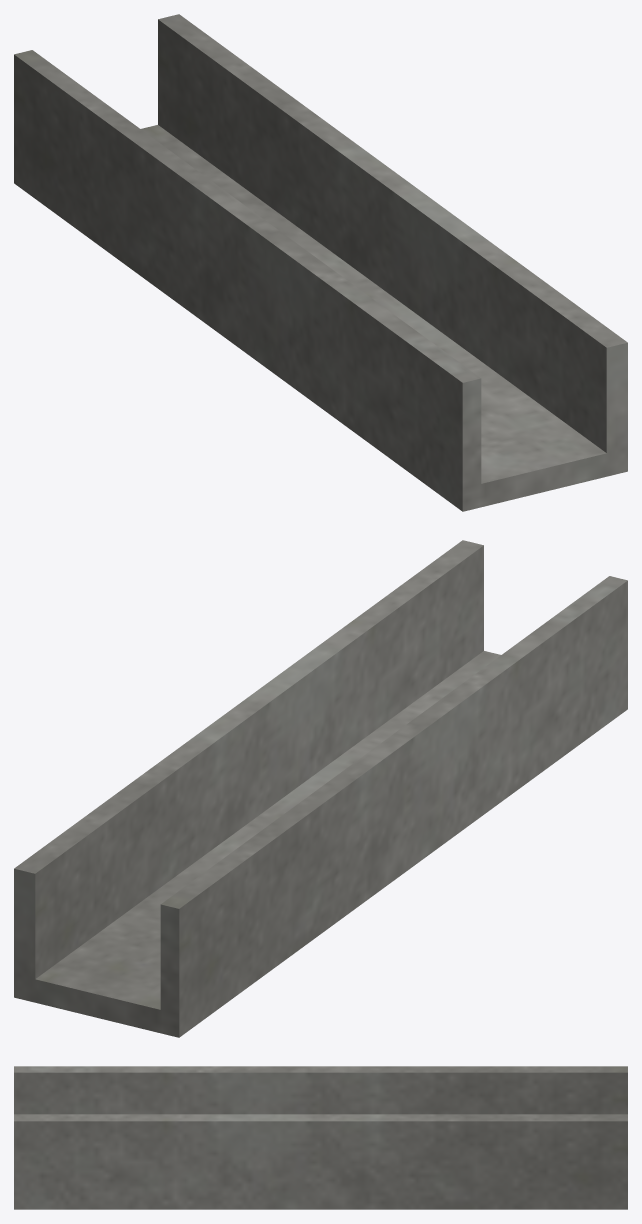
File: WalkingBridge2.fbx
3 views of the same model, one above another, from view 1: azimuth 30°, elevation 25°; view 2: azimuth 150°, elevation 25°; view 3: azimuth 270°, elevation 25° (orthographic). The views are drawn at different scales.
Visible parts, largest first — view 1: WalkingBridge2; view 2: WalkingBridge2; view 3: WalkingBridge2.
Boxes of the visible parts, x1,y1,x2,y2 form: WalkingBridge2: (14, 14, 627, 511); WalkingBridge2: (14, 540, 627, 1037); WalkingBridge2: (14, 1066, 627, 1209).
Bounding box in the file's own units: 938 × 199 × 149.
